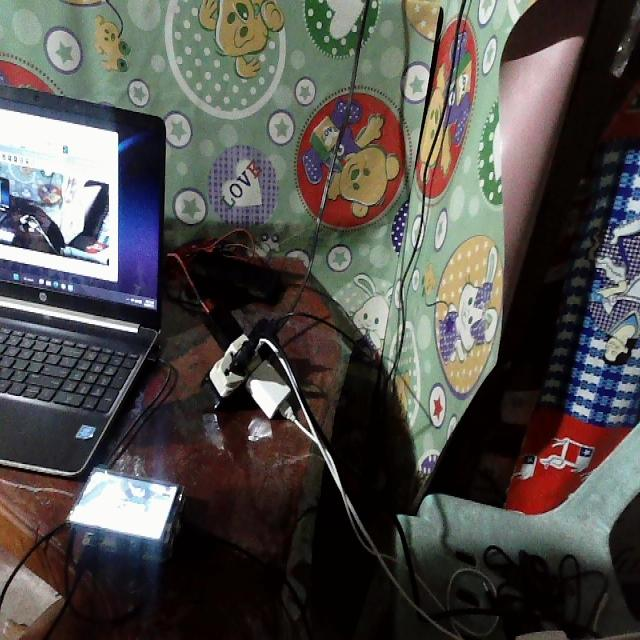-: (176, 257, 348, 447)
